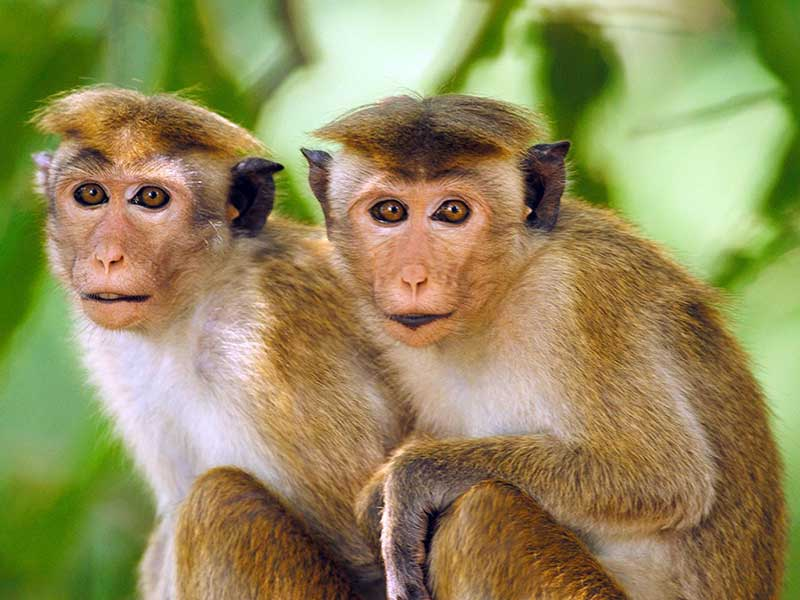Monkey: (299, 64, 766, 600), (15, 48, 320, 581)
